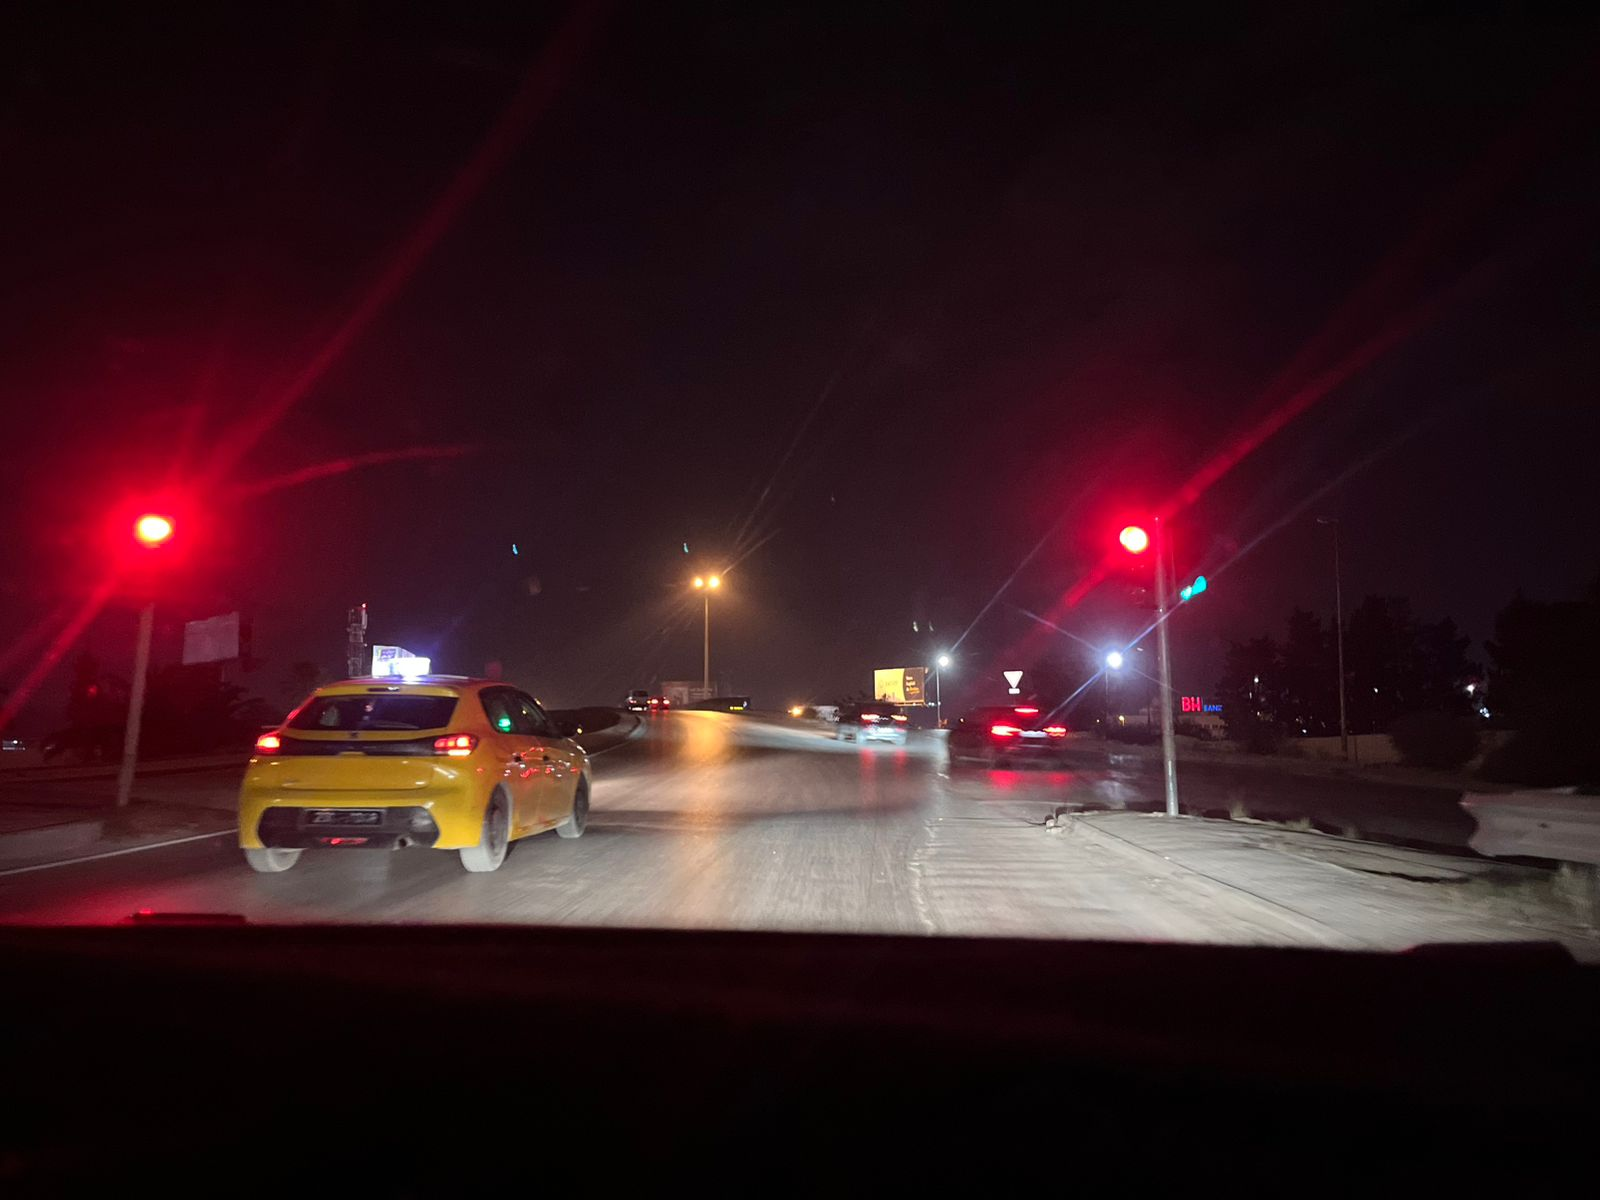RedLight: (116, 498, 183, 632), (1107, 516, 1159, 610)
